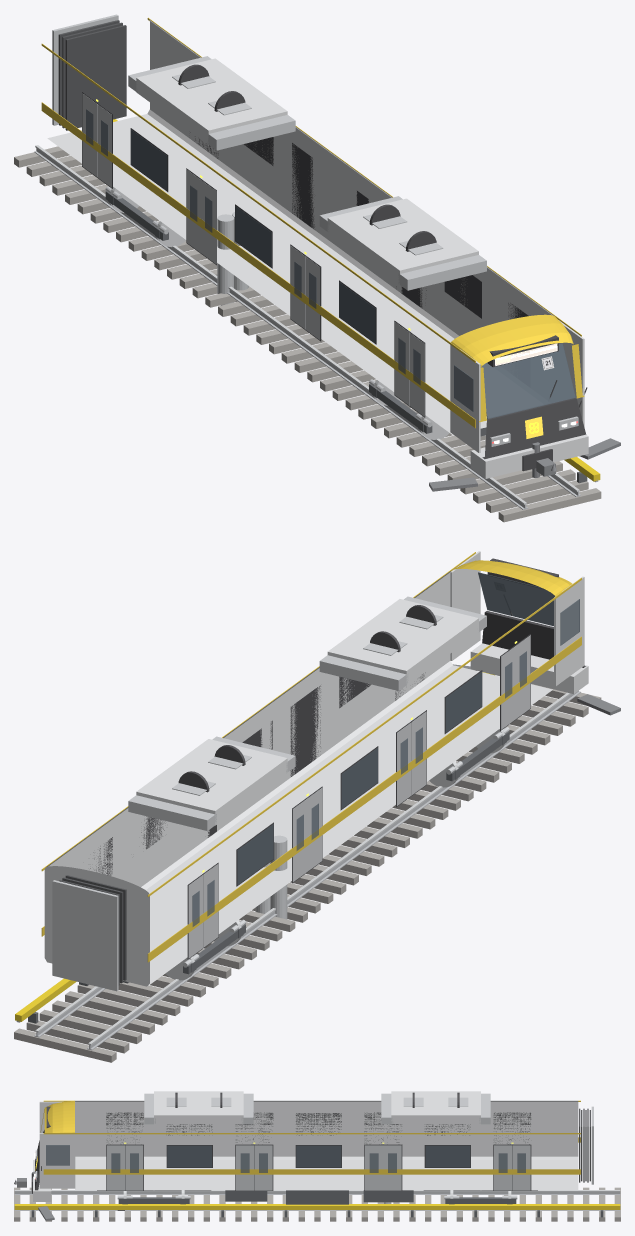
Rendered from metro_yellow.glb.
3 renders of one model, top to bottom at view 1: azimuth 30°, elevation 25°; view 2: azimuth 150°, elevation 25°; view 3: azimuth 270°, elevation 25°, orthographic. The views are drawn at different scales.
Parts seen in each view (by area): view 1: geometry_0, geometry_93, geometry_100, geometry_174, geometry_75, geometry_1, geometry_69, geometry_70, geometry_65, geometry_71, geometry_101, geometry_181 (+27 smaller); view 2: geometry_0, geometry_180, geometry_93, geometry_100, geometry_1, geometry_75, geometry_65, geometry_70, geometry_35, geometry_71, geometry_66, geometry_102 (+29 smaller); view 3: geometry_0, geometry_226, geometry_2, geometry_93, geometry_100, geometry_66, geometry_182, geometry_55, geometry_59, geometry_63, geometry_4, geometry_60 (+36 smaller).
Boxes of the visible parts, x1,y1,x2,y2 form: geometry_0: (47,19,553,435); geometry_93: (136,58,287,145); geometry_100: (327,198,478,284); geometry_174: (65,25,126,130); geometry_75: (481,343,575,418); geometry_1: (41,102,475,428); geometry_69: (451,314,584,422); geometry_70: (482,398,586,459); geometry_65: (450,345,480,452); geometry_71: (470,434,588,478); geometry_101: (398,255,486,290); geometry_181: (34,151,528,509); geometry_0: (44,570,552,986); geometry_180: (52,880,118,991); geometry_93: (136,739,287,825); geometry_100: (327,599,478,685); geometry_1: (147,636,581,962); geometry_75: (478,572,554,626); geometry_65: (554,576,584,686); geometry_70: (482,611,585,667); geometry_35: (290,685,320,776); geometry_71: (470,643,588,694); geometry_66: (450,551,480,660); geometry_102: (319,655,408,690); geometry_0: (75,1100,578,1190); geometry_226: (14,1204,620,1209); geometry_2: (43,1169,580,1174); geometry_93: (391,1091,480,1124); geometry_100: (154,1091,243,1124); geometry_66: (39,1133,75,1188); geometry_182: (14,1191,620,1193); geometry_55: (424,1145,470,1167); geometry_59: (295,1145,341,1167); geometry_63: (166,1145,212,1167); geometry_4: (43,1133,580,1134); geometry_60: (296,1145,341,1167).
Bounding box in the file's own units: 5.11 × 4.88 × 23.04.
Materials: 19 (3 with a texture image).
